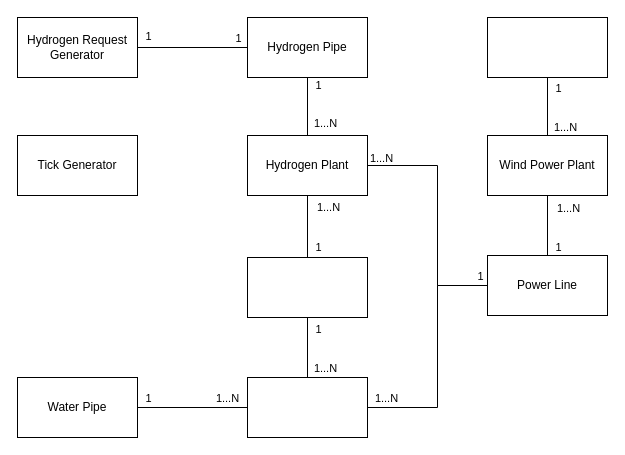
This 625x455 diagram has some shape labels left out. Each missing label, with the box of its shape:
Climatie Generator: (486, 16, 608, 78)
VE Water Pipe: (246, 256, 368, 318)
VE Water Plant: (246, 376, 368, 438)
